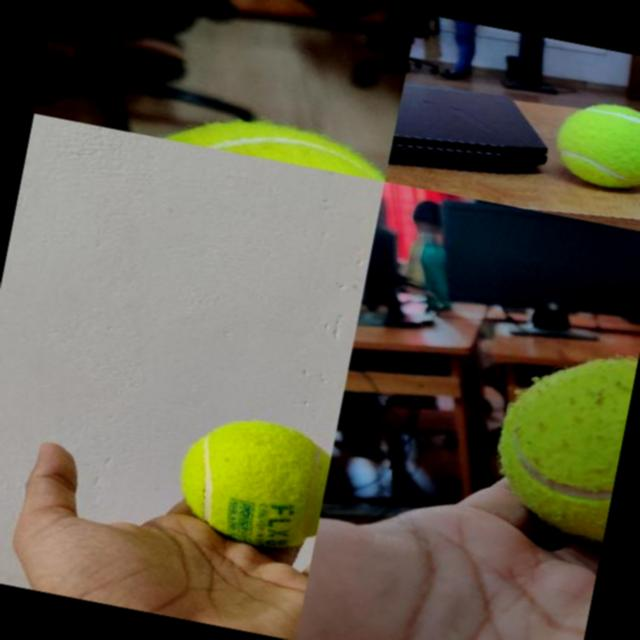tennis-ball: (482, 336, 637, 544), (168, 406, 336, 556), (550, 95, 640, 195)
